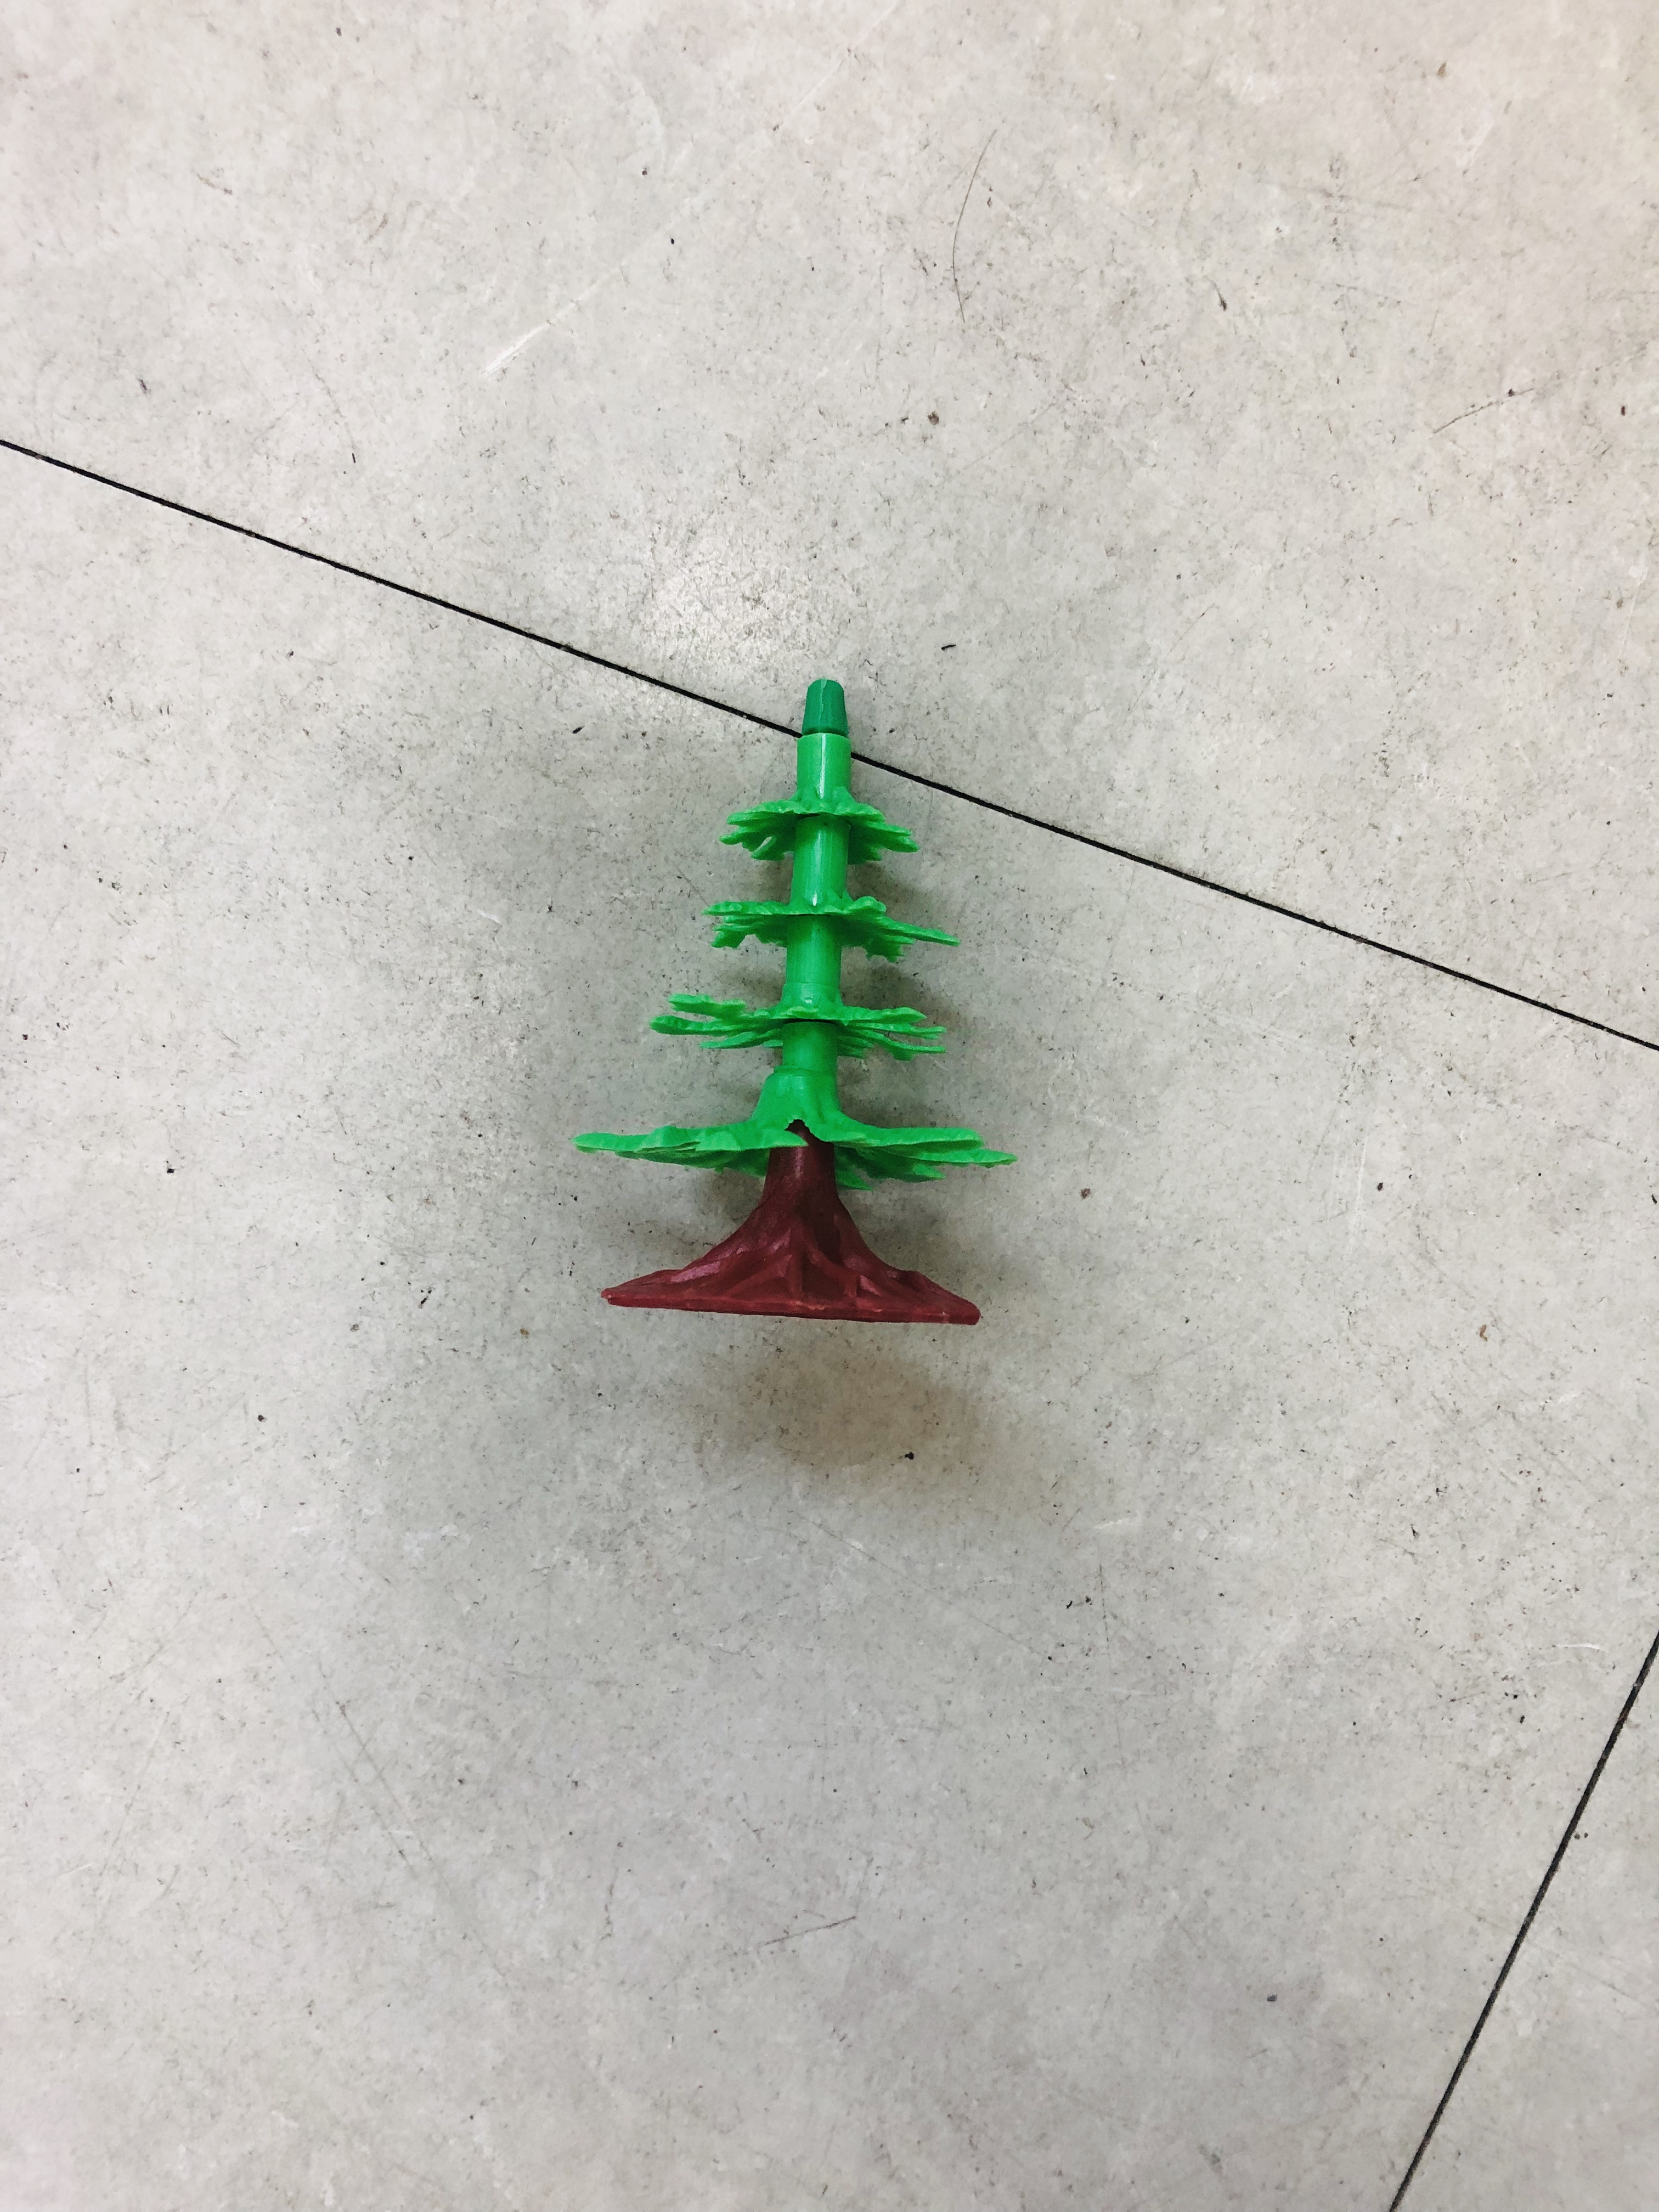tree: (565, 646, 1018, 1340)
